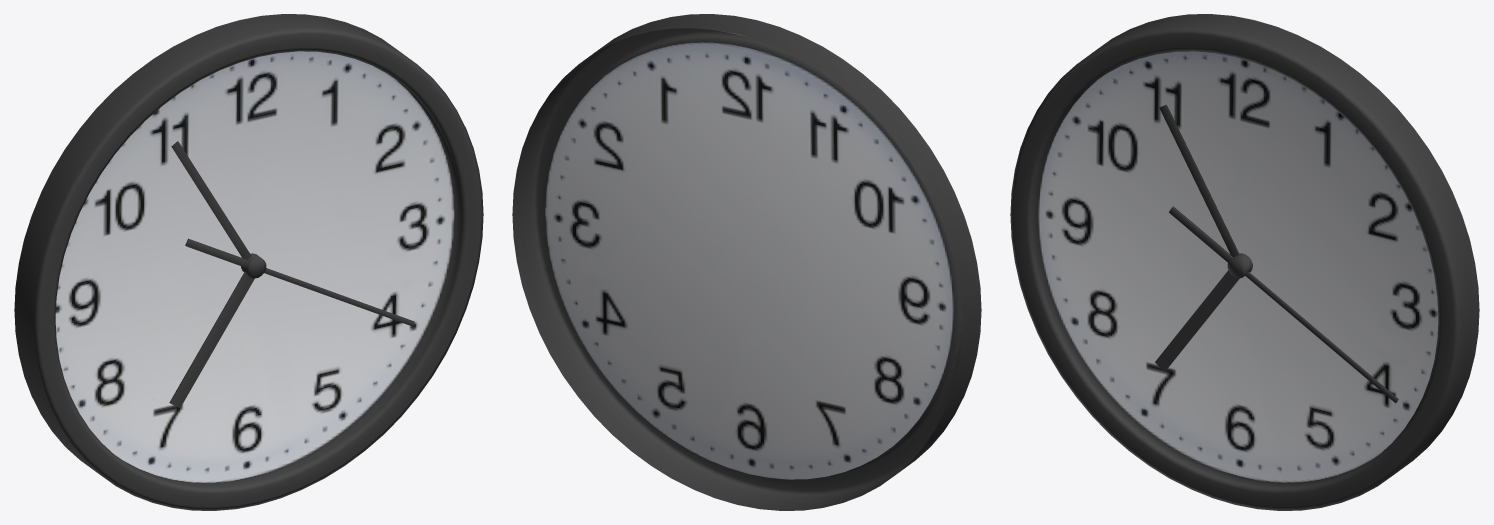
Rendered from Clock.fbx.
3 renders of one model, left to right at view 1: azimuth 30°, elevation 25°; view 2: azimuth 150°, elevation 25°; view 3: azimuth 330°, elevation 25°, orthographic.
Parts seen in each view (by area): view 1: Clock; view 2: Clock; view 3: Clock.
Boxes of the visible parts, bbox=[...] form: Clock: bbox=[14, 14, 483, 510]; Clock: bbox=[512, 14, 981, 510]; Clock: bbox=[1010, 14, 1479, 510].
Bounding box in the file's own units: 29.21 × 29.21 × 2.35.
